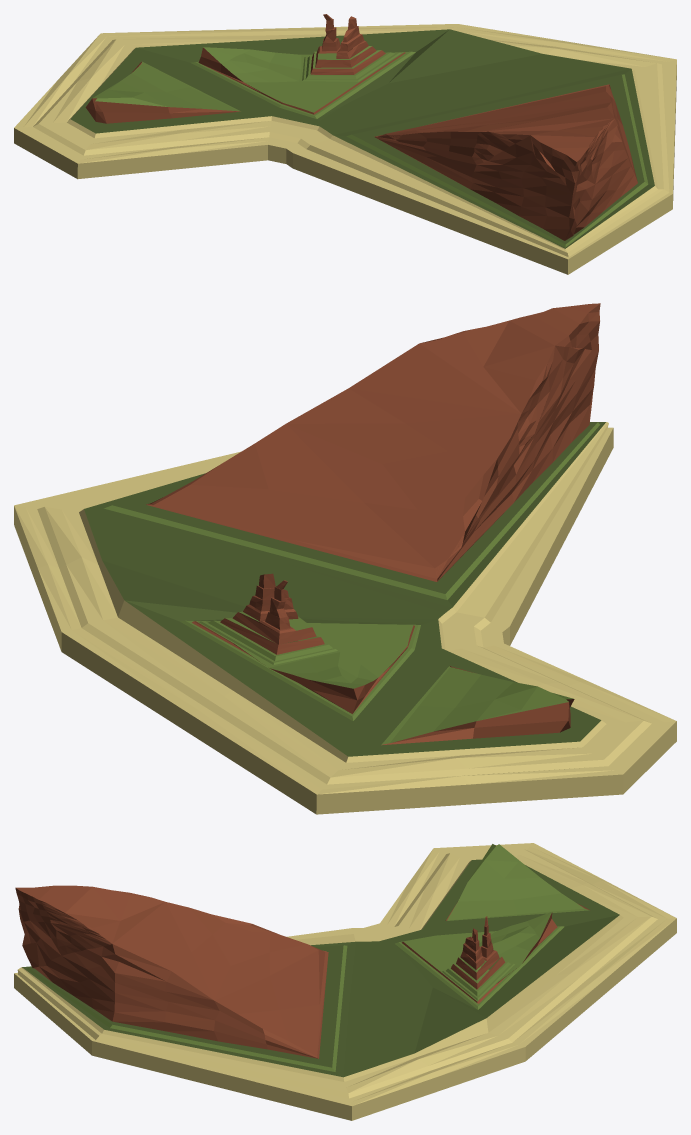
File: middleIsland.fbx
The picture shows the model from 3 angles, top to bottom: view 1: azimuth 30°, elevation 25°; view 2: azimuth 150°, elevation 25°; view 3: azimuth 270°, elevation 25°; orthographic projection. The views are drawn at different scales.
Visible parts, largest first — view 1: Cube; view 2: Cube; view 3: Cube.
Part boxes in pixels (x1=…): Cube: x1=14, y1=14, x2=676, y2=274; Cube: x1=14, y1=303, x2=676, y2=814; Cube: x1=14, y1=843, x2=676, y2=1120.
Bounding box in the file's own units: 11.33 × 2.1 × 12.06.
